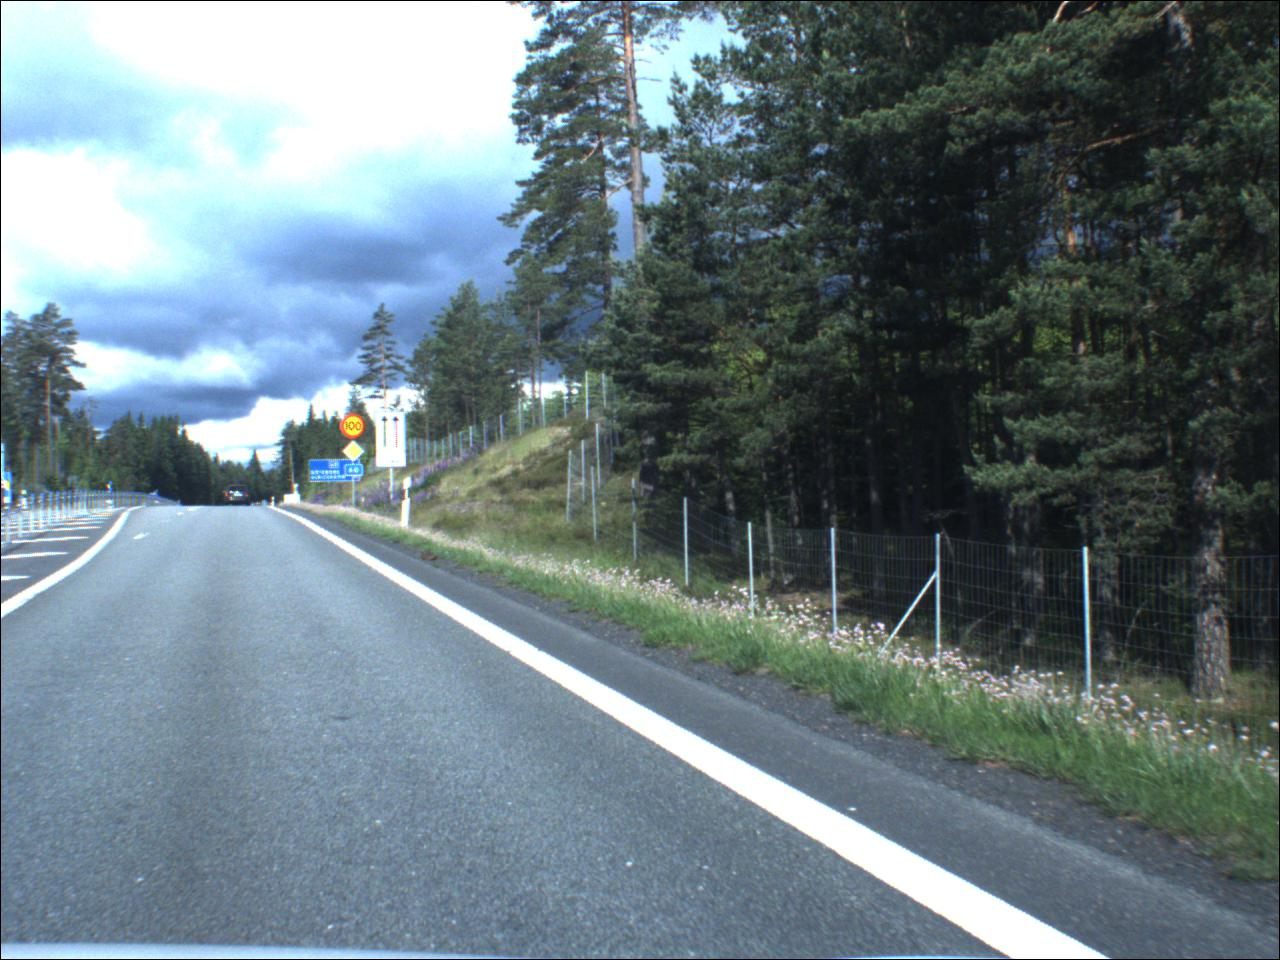100_SIGN: (342, 414, 367, 441)
PRIORITY_ROAD: (345, 444, 369, 465)
